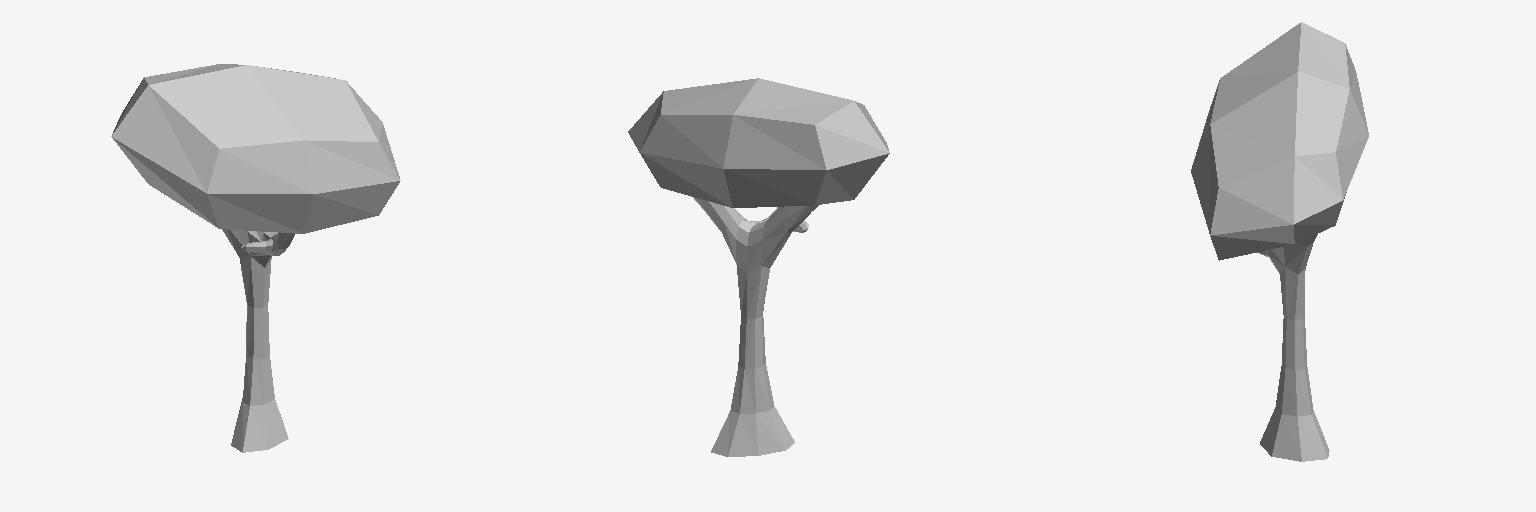
Rendered from tree_painting.obj.
The picture shows the model from 3 angles: view 1: azimuth 30°, elevation 25°; view 2: azimuth 150°, elevation 25°; view 3: azimuth 270°, elevation 25°; orthographic projection.
Parts seen in each view (by area): view 1: Tree_Cube.001; view 2: Tree_Cube.001; view 3: Tree_Cube.001.
Boxes of the visible parts, x1,y1,x2,y2 form: Tree_Cube.001: [111, 64, 400, 452]; Tree_Cube.001: [628, 78, 889, 456]; Tree_Cube.001: [1191, 22, 1368, 461].
Size of the model in its own units: 9 by 12.05 by 5.22.